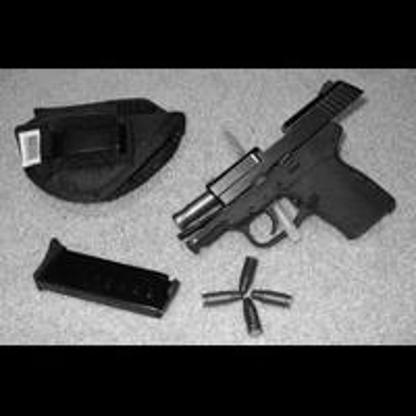weapon: (167, 71, 398, 262)
